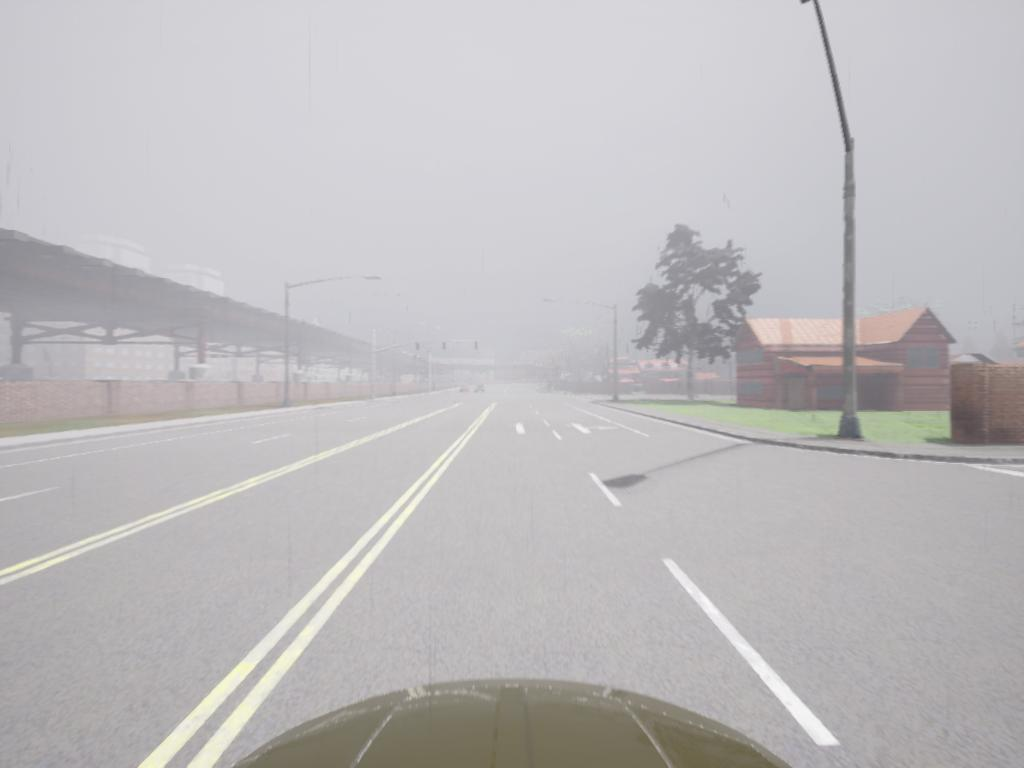traffic_light: (443, 344, 448, 352), (416, 343, 420, 352), (475, 343, 478, 351)
